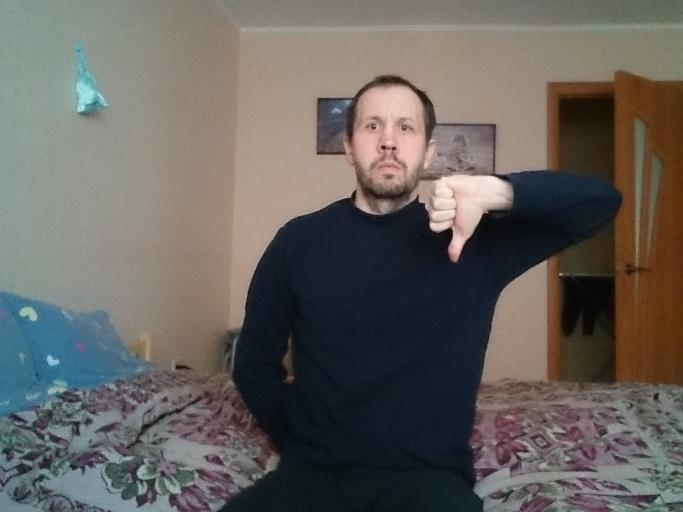dislike: (426, 171, 483, 266)
